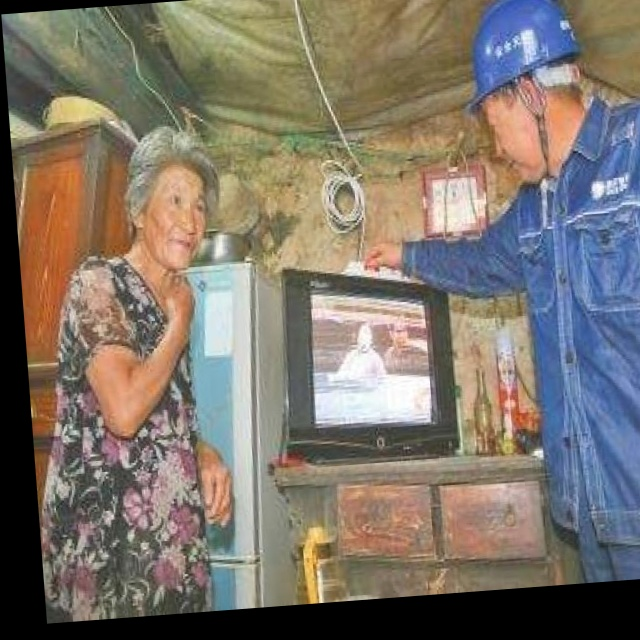Con_Casco: (459, 0, 588, 188)
Sin_Casco_Mascarrilla: (125, 124, 226, 275)
